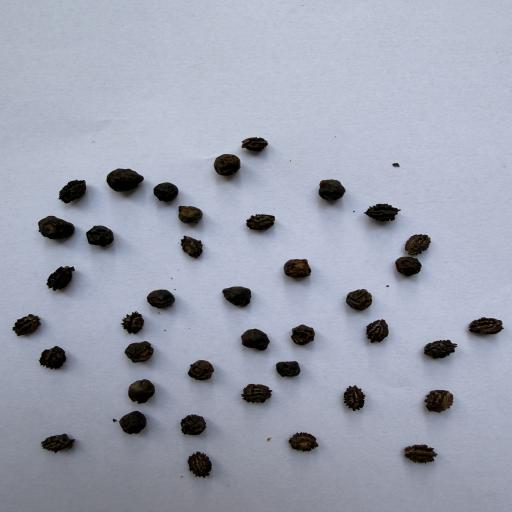Black_pepper: (108, 408, 156, 444), (119, 366, 162, 406), (228, 321, 278, 355), (302, 173, 352, 206), (275, 249, 319, 283), (31, 215, 78, 244), (283, 319, 331, 346), (104, 166, 146, 196), (171, 199, 211, 230), (208, 150, 243, 184), (142, 284, 184, 312), (125, 335, 164, 365), (82, 221, 118, 252), (272, 355, 319, 377), (218, 287, 261, 310), (392, 257, 430, 282), (347, 282, 379, 311), (186, 358, 217, 381), (152, 177, 180, 202)
papaya_seed: (396, 439, 462, 469), (234, 127, 291, 158), (171, 409, 223, 441), (39, 430, 91, 458), (281, 420, 321, 456), (232, 380, 279, 410), (38, 339, 76, 375), (355, 313, 394, 348), (186, 444, 224, 479), (422, 334, 462, 366), (46, 265, 89, 294), (465, 308, 509, 336), (12, 310, 59, 336), (364, 194, 403, 224), (243, 207, 287, 233), (60, 173, 92, 205), (178, 231, 210, 263), (424, 386, 459, 414), (341, 382, 372, 412), (402, 228, 432, 255), (118, 310, 150, 335)
